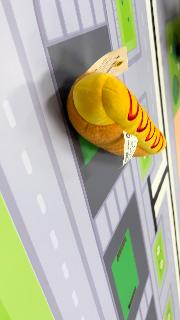hotdog: (66, 71, 168, 159)
